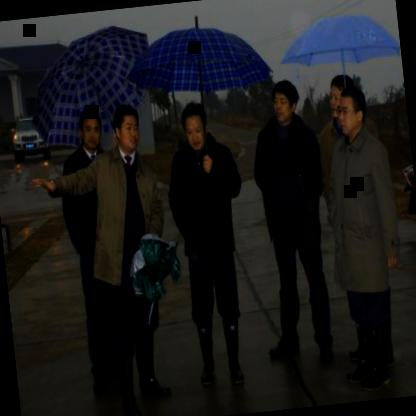head: (332, 80, 370, 140), (177, 97, 211, 155), (110, 101, 145, 154), (266, 76, 301, 126), (74, 106, 106, 152), (324, 68, 354, 116)
